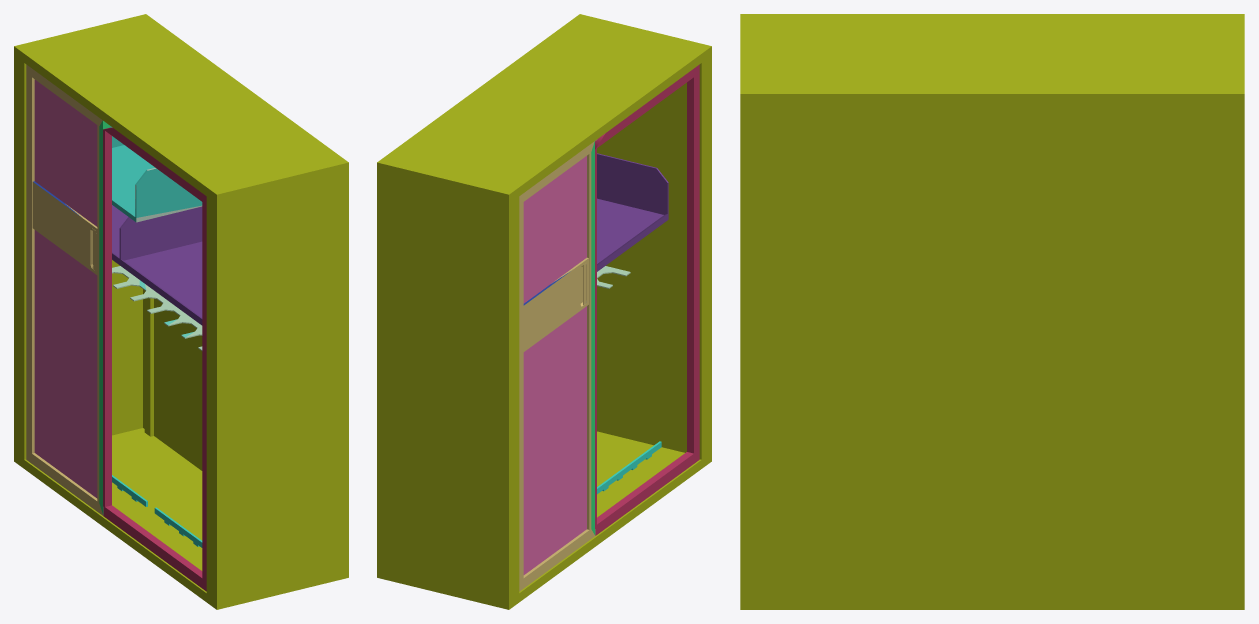
File: garderob_true.fbx
3 views of the same model, side by side, from view 1: azimuth 30°, elevation 25°; view 2: azimuth 150°, elevation 25°; view 3: azimuth 270°, elevation 25° (orthographic). The views are drawn at different scales.
Parts seen in each view (by area): view 1: 000-0-2; view 2: 000-0-2; view 3: 000-0-2.
Boxes of the visible parts, x1,y1,x2,y2 form: 000-0-2: [14, 14, 348, 609]; 000-0-2: [377, 14, 711, 609]; 000-0-2: [740, 14, 1244, 609].
Bounding box in the file's own units: 54.28 × 163 × 144.
